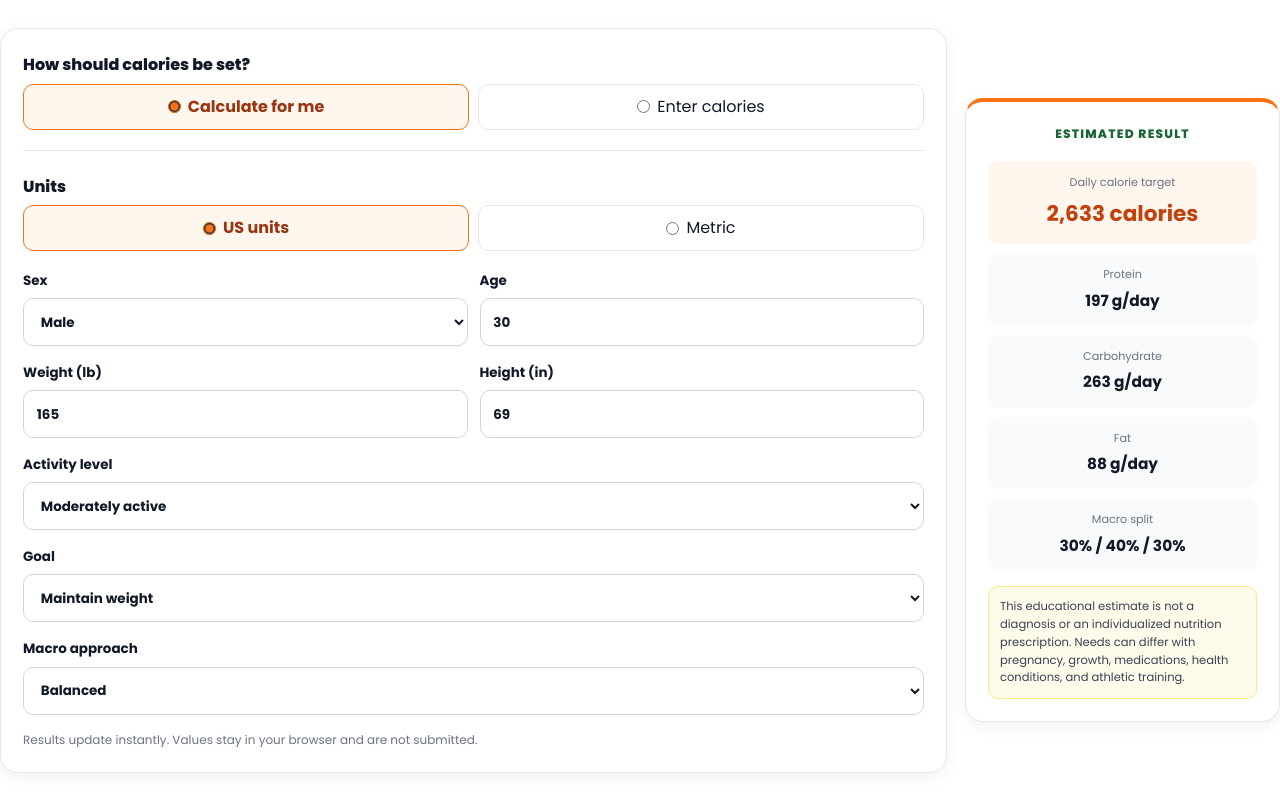
Test: supporting calculator UX › keeps macro setup user friendly and supports manual and custom modes
Expected: the element "How should calories be set?" is shown, [23,51,924,150]
Expected: the dropdown labelled "Sex" does not show "+5", [23,298,468,346]
Click the radio button labelled "Enter calories".
click(644, 106)  # box [637,100,650,113]
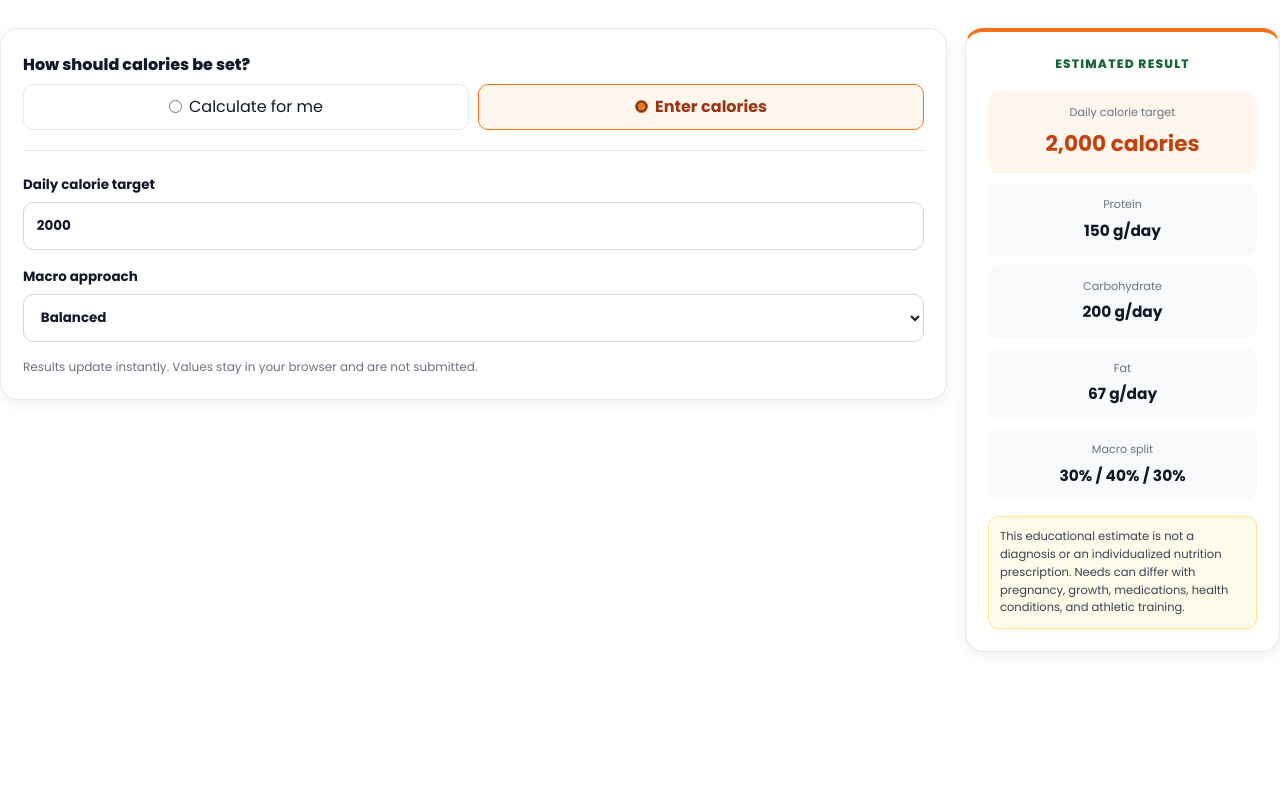
Expected: the number field labelled "Daily calorie target" is shown, [23,202,924,250]
Select "Custom percentages" in the dropdown labelled "Macro approach" at [474, 318], box [23,294,924,342]
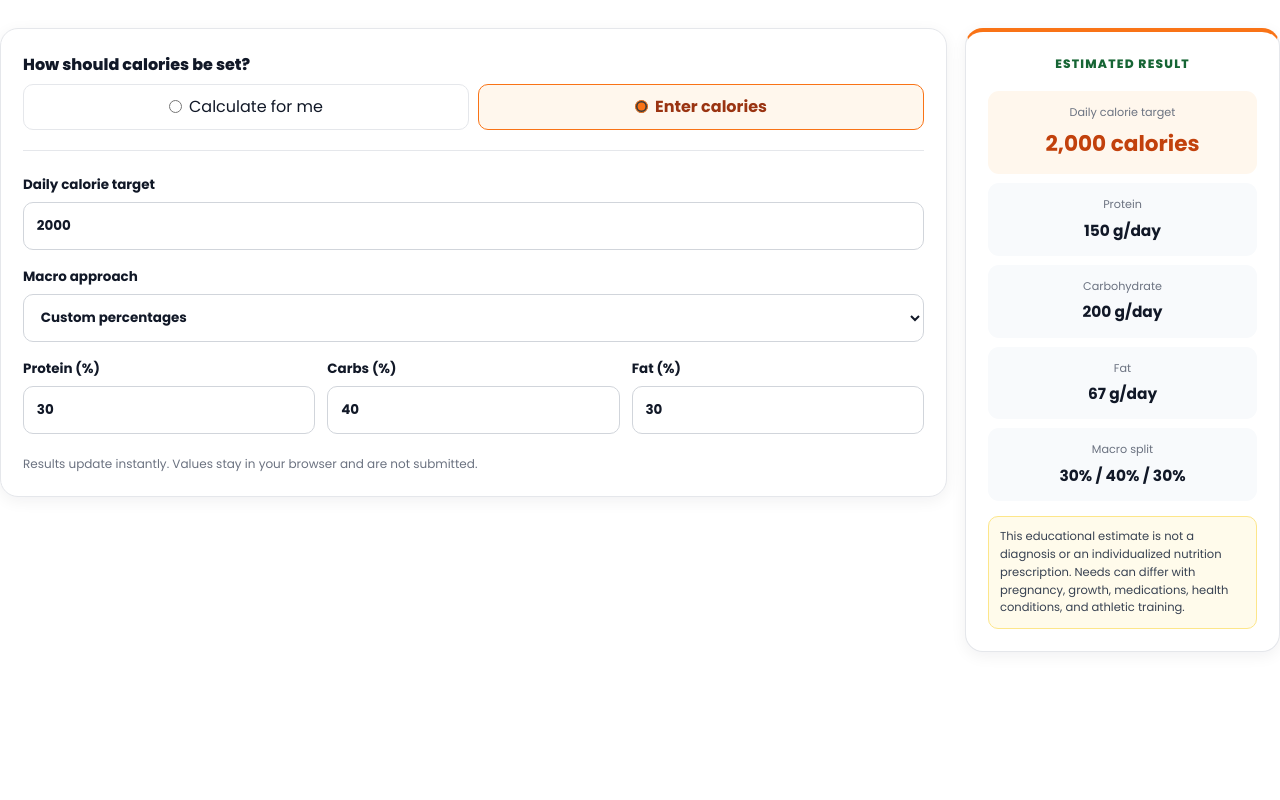
Result: the number field labelled "Protein (%)" is shown at [23,386,315,434]
Result: the number field labelled "Carbs (%)" is shown at [327,386,620,434]
Result: the number field labelled "Fat (%)" is shown at [632,386,924,434]
